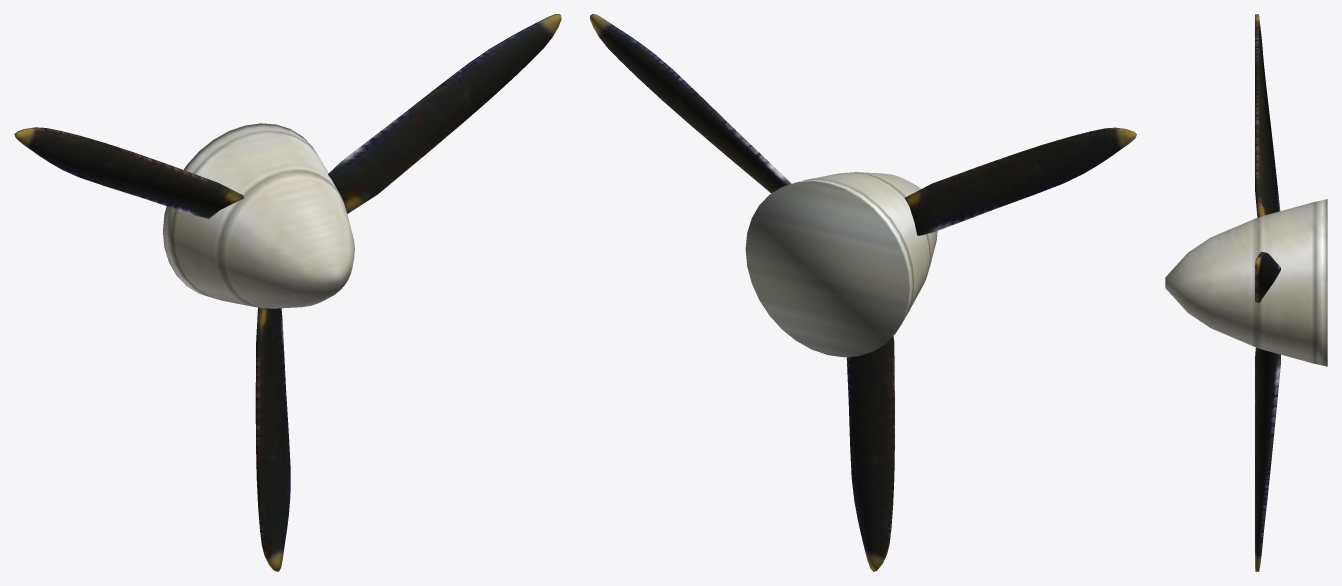
The model's file is rotor.obj.
3 views of the same model, side by side, from view 1: azimuth 30°, elevation 25°; view 2: azimuth 150°, elevation 25°; view 3: azimuth 270°, elevation 25° (orthographic). The views are drawn at different scales.
Parts seen in each view (by area): view 1: SF_Rotor_Plane.016, SF_RotorCone_Cylinder; view 2: SF_RotorCone_Cylinder, SF_Rotor_Plane.016; view 3: SF_RotorCone_Cylinder, SF_Rotor_Plane.016.
Part boxes in pixels (<box>): SF_Rotor_Plane.016: <box>14,14,561,571</box>; SF_RotorCone_Cylinder: <box>163,123,354,308</box>; SF_RotorCone_Cylinder: <box>745,172,937,357</box>; SF_Rotor_Plane.016: <box>590,14,1136,571</box>; SF_RotorCone_Cylinder: <box>1165,199,1327,366</box>; SF_Rotor_Plane.016: <box>1255,14,1280,571</box>.
Bounding box in the file's own units: 1.5 × 1.33 × 0.436.
Materials: 2 (2 with a texture image).
